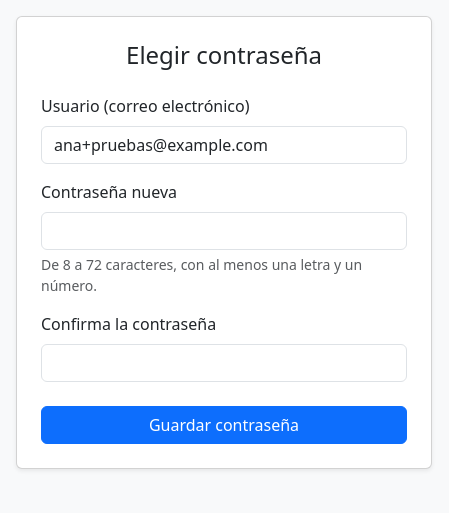
Test: ResetPasswordComponent › muestra en el campo el error 422 de la contraseña
This screenshot has width=449, height=513.
Type "Puerto-2026" into the password field labelled "Contraseña nueva" at point(224, 231), box x1=41 y1=212 x2=407 y2=250
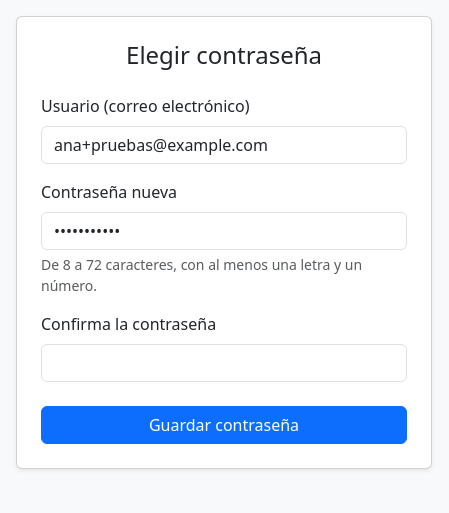
Type "Puerto-2026" into the password field labelled "Confirma la contraseña" at point(224, 363), box x1=41 y1=344 x2=407 y2=382
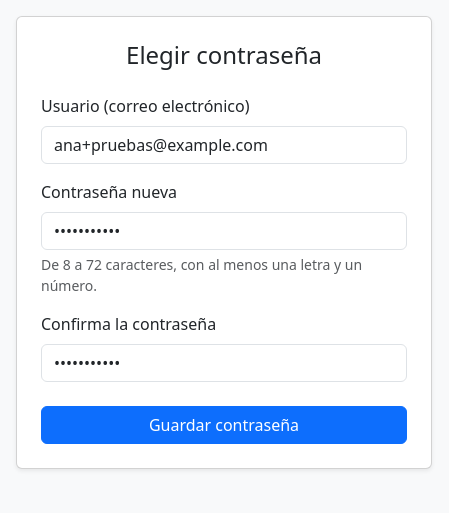
Submit the form, box x1=41 y1=94 x2=407 y2=444
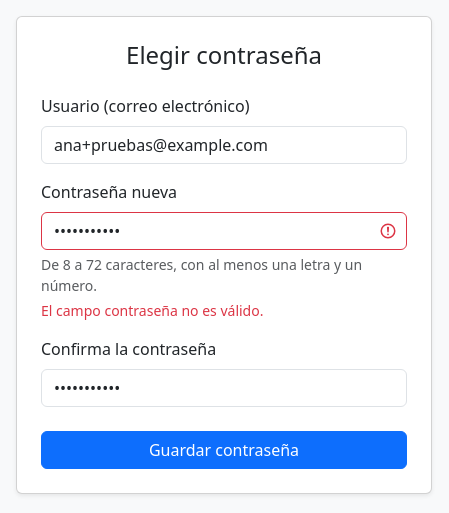
Check: the form is shown, box x1=41 y1=94 x2=407 y2=469
Check: the text "El campo contraseña no es válido." is shown, box x1=41 y1=301 x2=264 y2=320
